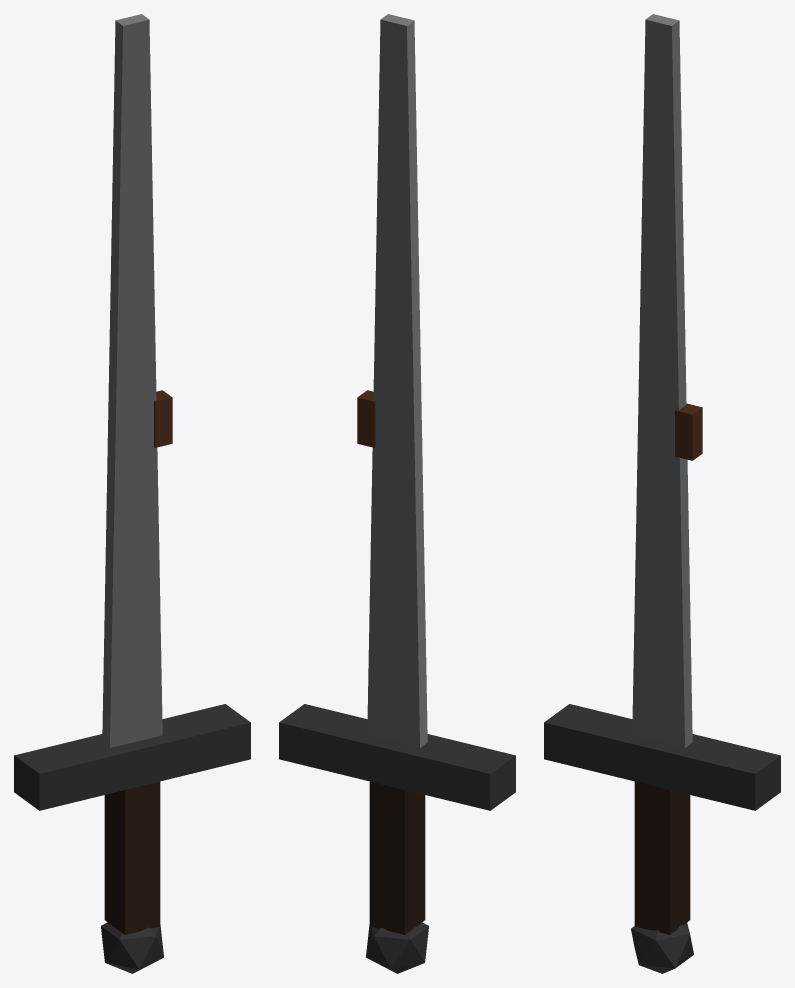
File: worn_sword.glb
3 views of the same model, side by side, from view 1: azimuth 30°, elevation 25°; view 2: azimuth 150°, elevation 25°; view 3: azimuth 330°, elevation 25° (orthographic).
Visible parts, largest first — view 1: WornSword; view 2: WornSword; view 3: WornSword.
Boxes of the visible parts, box(x1,y1,x2,y2) form: WornSword: box(14, 14, 250, 973); WornSword: box(279, 14, 515, 973); WornSword: box(544, 14, 780, 973).
Bounding box in the file's own units: 0.24 × 1.03 × 0.0595.
